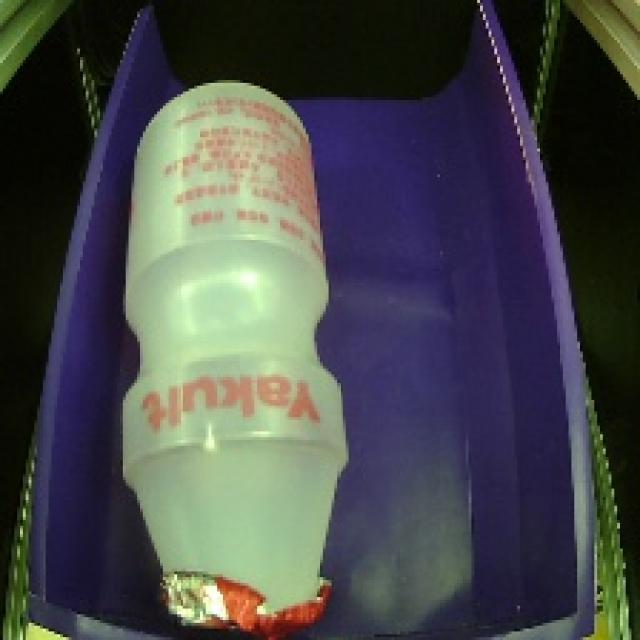plastic: (102, 63, 361, 640)
